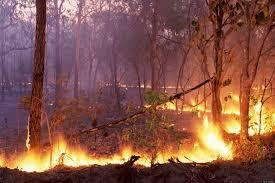fire: (157, 86, 275, 163)
